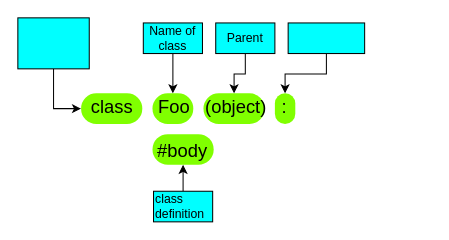
Some shapes in this 449 by 240 pixel diagram are drawn without their labels. The centre of each missing label's shape, as x and y in pixels:
"end of declaration" goes at [326,38].
"Keyword: what follows is a class" goes at [53,43].
